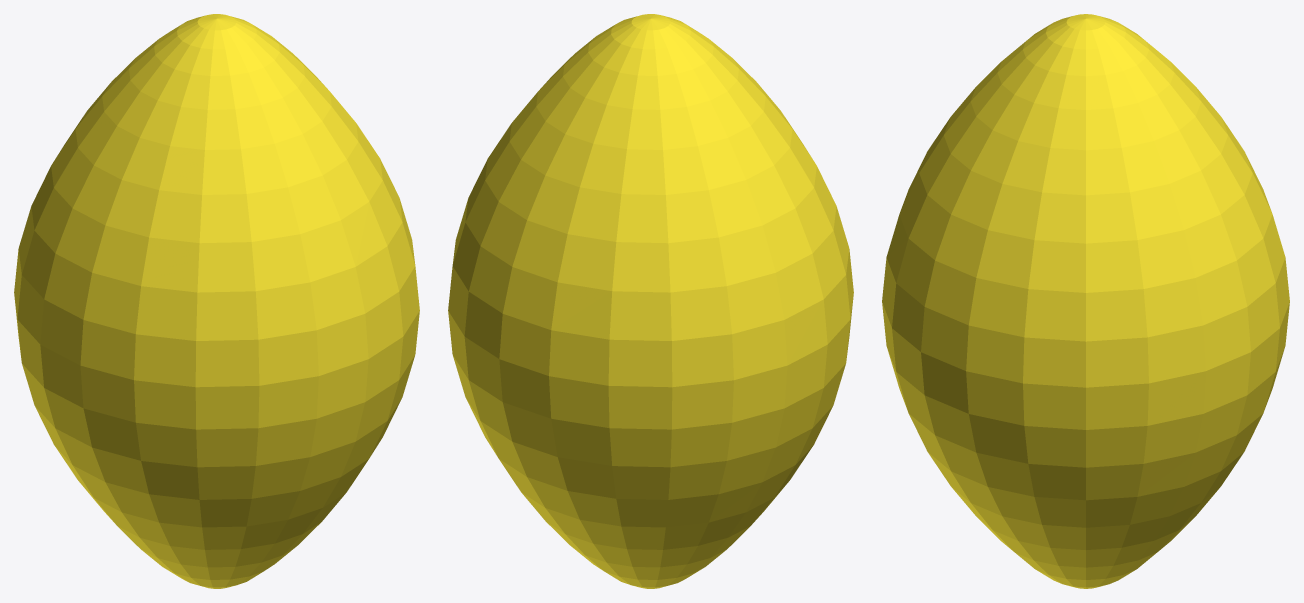
Rendered from Lemon.obj.
The picture shows the model from 3 angles, left to right: view 1: azimuth 30°, elevation 25°; view 2: azimuth 150°, elevation 25°; view 3: azimuth 270°, elevation 25°; orthographic projection.
Visible parts, largest first — view 1: Lemon; view 2: Lemon; view 3: Lemon.
Part boxes in pixels (left/top/right/bottom): Lemon: left=14, top=14, right=419, bottom=588; Lemon: left=448, top=14, right=853, bottom=588; Lemon: left=882, top=14, right=1289, bottom=588.
Size of the model in its own units: 1.7 by 2.6 by 1.7.
